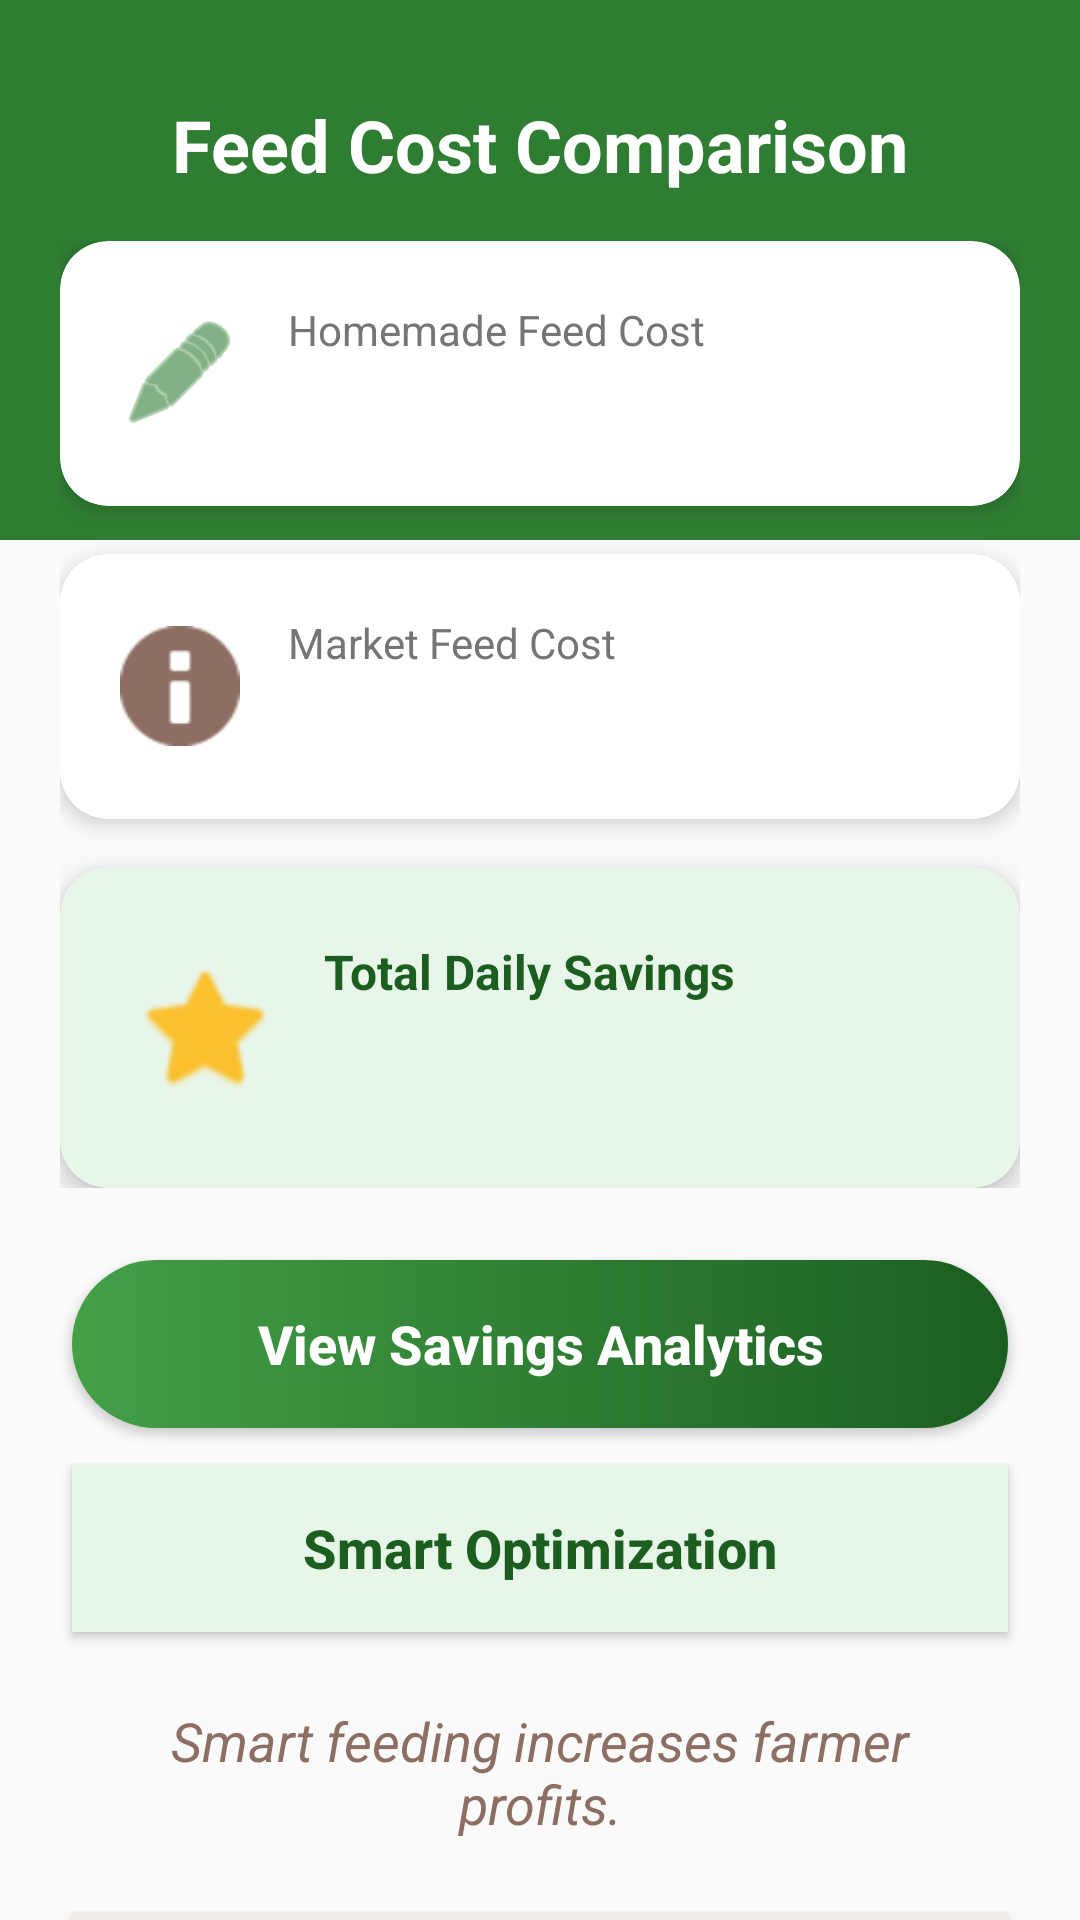

Icons on this 1080 × 1920 Android screen, each with its box as (x1, y1, x2, y2):
edit: (129, 321, 230, 423)
info: (120, 626, 240, 746)
star on: (145, 970, 265, 1086)
